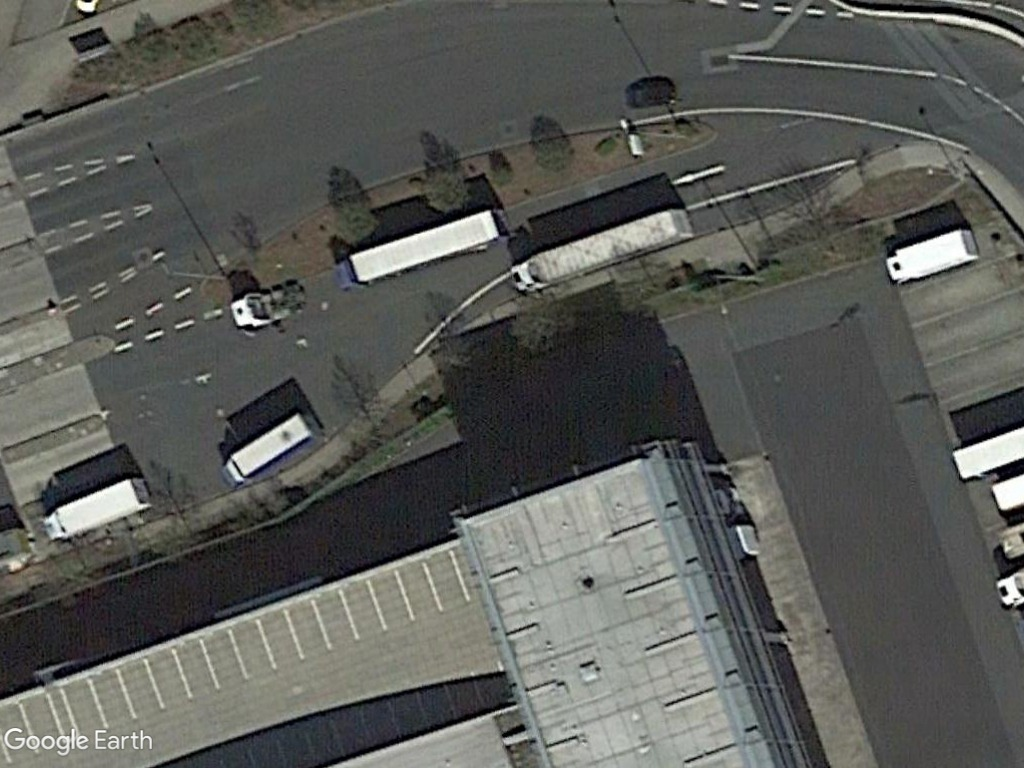longvehicle: (495, 192, 695, 315), (325, 185, 510, 308)
truck: (215, 403, 321, 490), (39, 472, 152, 551), (872, 220, 984, 299)
